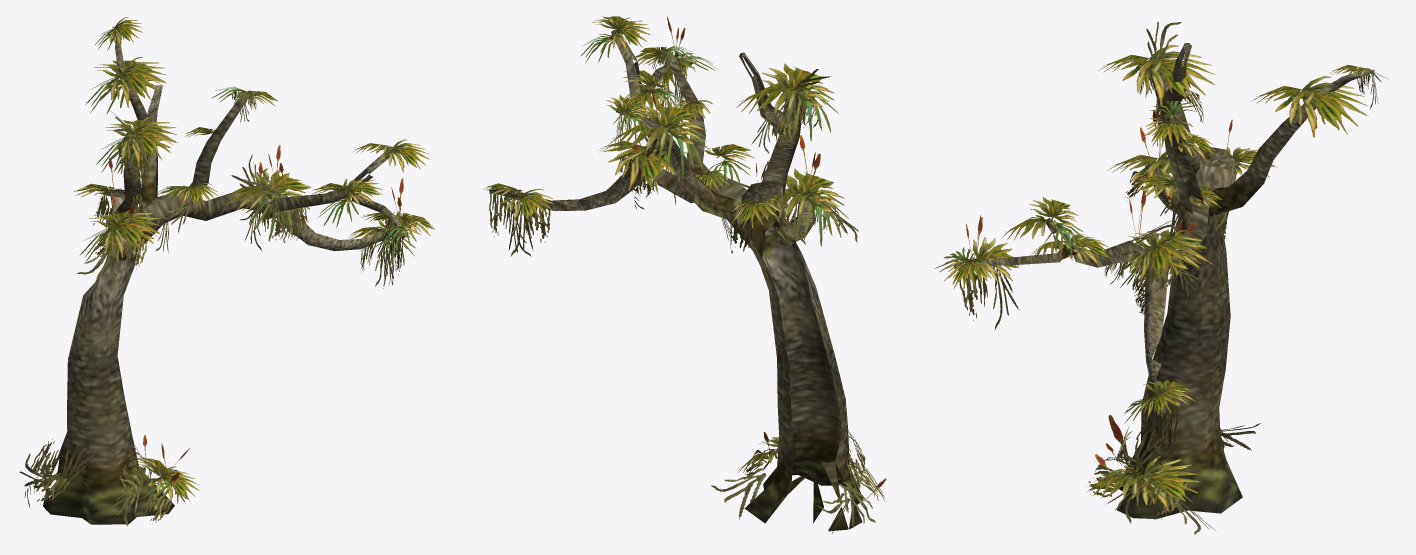
File: S_Tree_Yellow050_1.FBX
3 views of the same model, side by side, from view 1: azimuth 30°, elevation 25°; view 2: azimuth 150°, elevation 25°; view 3: azimuth 270°, elevation 25° (orthographic). The views are drawn at different scales.
Parts seen in each view (by area): view 1: S_Tree_Yellow050_1; view 2: S_Tree_Yellow050_1; view 3: S_Tree_Yellow050_1.
Part boxes in pixels (x1,y1,x2,y2): S_Tree_Yellow050_1: [19, 17, 434, 526]; S_Tree_Yellow050_1: [484, 16, 886, 533]; S_Tree_Yellow050_1: [935, 22, 1387, 534].
Bounding box in the file's own units: 823 × 733 × 849.
